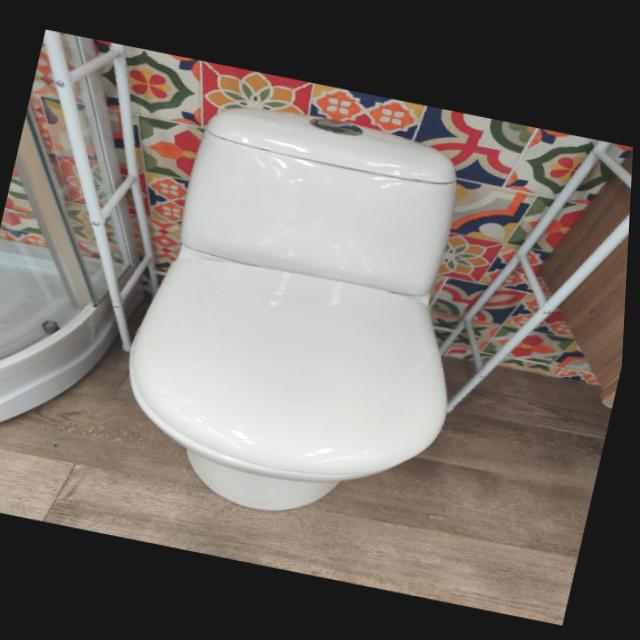toilet: (101, 86, 510, 540)
